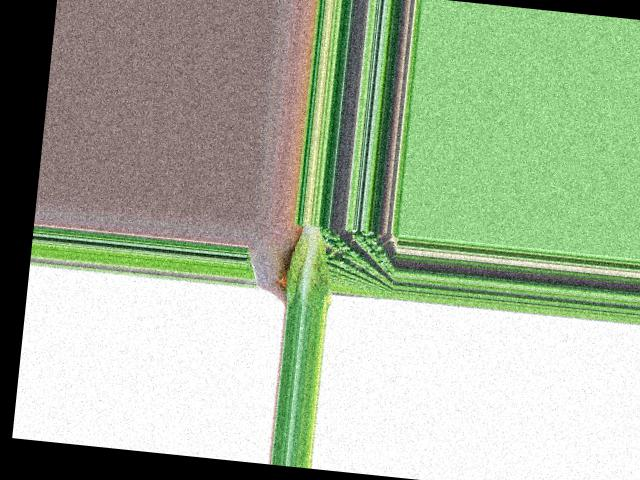lettuce: (284, 222, 337, 308)
